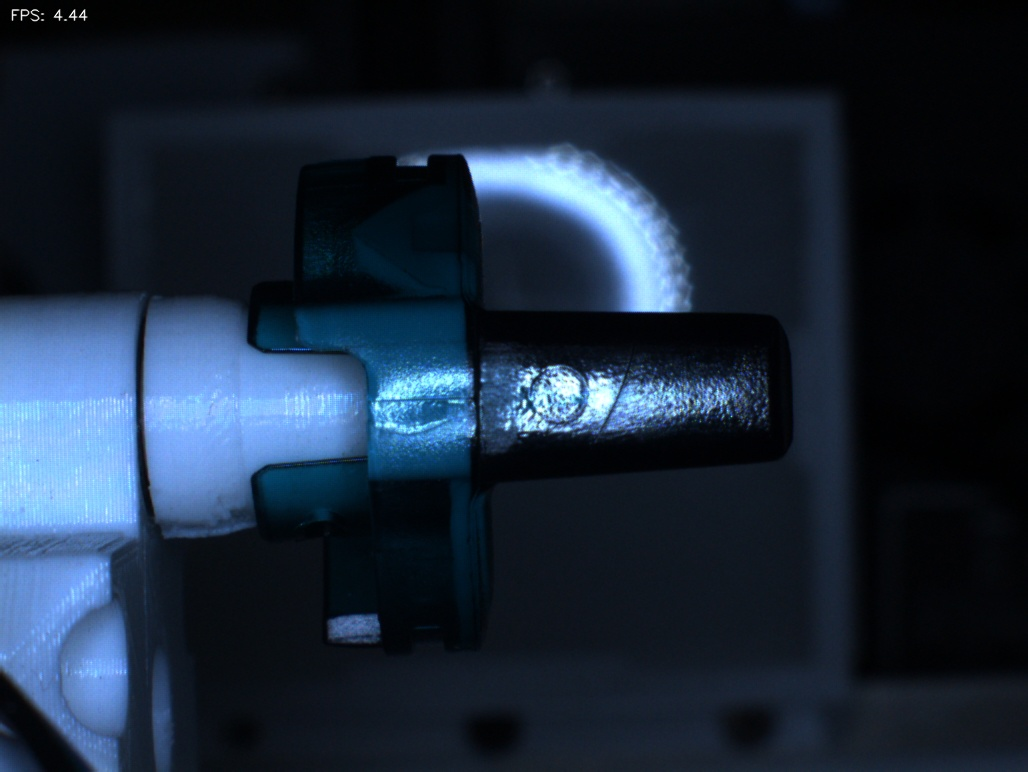DentOk: (320, 197, 396, 281)
